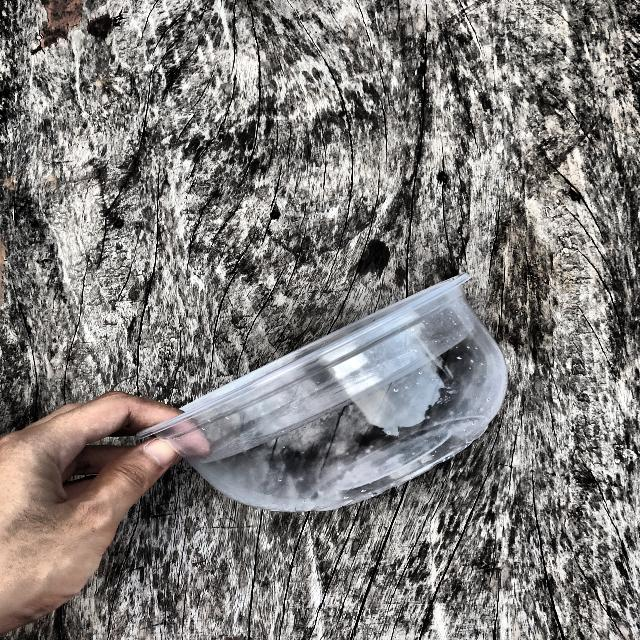plastic container: (99, 238, 574, 535)
